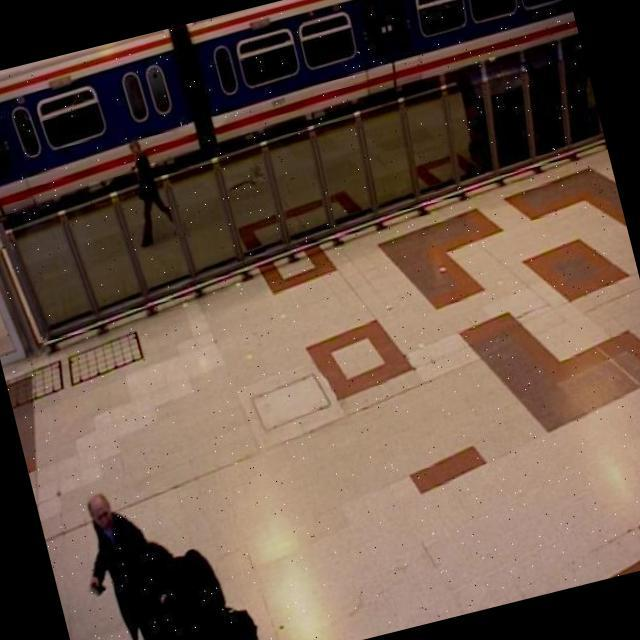person: (65, 475, 194, 640), (130, 511, 272, 640), (111, 127, 185, 253)
